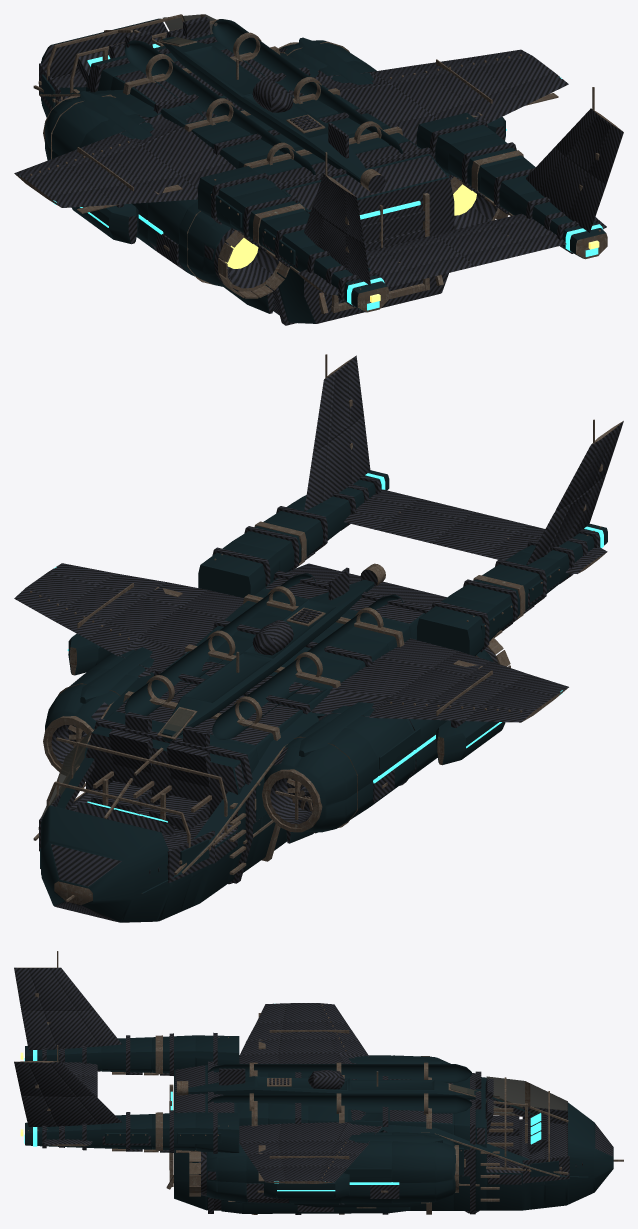
3 renders of one model, top to bottom at view 1: azimuth 30°, elevation 25°; view 2: azimuth 150°, elevation 25°; view 3: azimuth 270°, elevation 25°, orthographic. The views are drawn at different scales.
Visible parts, largest first — view 1: kb7_core, kb7_tail_r, kb7_wing_l, kb7_wing_r, kb7_tail_l; view 2: kb7_core, kb7_wing_l, kb7_wing_r, kb7_tail_r, kb7_tail_l; view 3: kb7_core, kb7_tail_l, kb7_wing_r, kb7_tail_r, kb7_wing_l.
Part boxes in pixels (x1,y1,x2,y2): kb7_core: (33, 14, 607, 325); kb7_tail_r: (432, 87, 623, 266); kb7_wing_l: (14, 133, 197, 244); kb7_wing_r: (370, 49, 568, 140); kb7_tail_l: (297, 152, 474, 295); kb7_core: (33, 470, 607, 922); kb7_wing_l: (369, 651, 568, 765); kb7_wing_r: (14, 563, 206, 675); kb7_tail_r: (304, 354, 474, 543); kb7_tail_l: (433, 419, 623, 573); kb7_core: (20, 1032, 623, 1214); kb7_tail_l: (14, 951, 121, 1095); kb7_wing_r: (240, 1140, 368, 1198); kb7_tail_r: (14, 1045, 121, 1146); kb7_wing_l: (240, 1003, 368, 1055).
Size of the model in its own units: 5.8 by 2.96 by 8.39.
6 materials, 2 textured.
